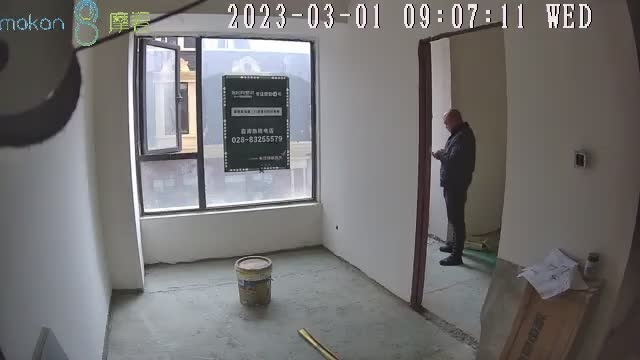people: (434, 110, 475, 266)
window: (135, 35, 318, 218)
